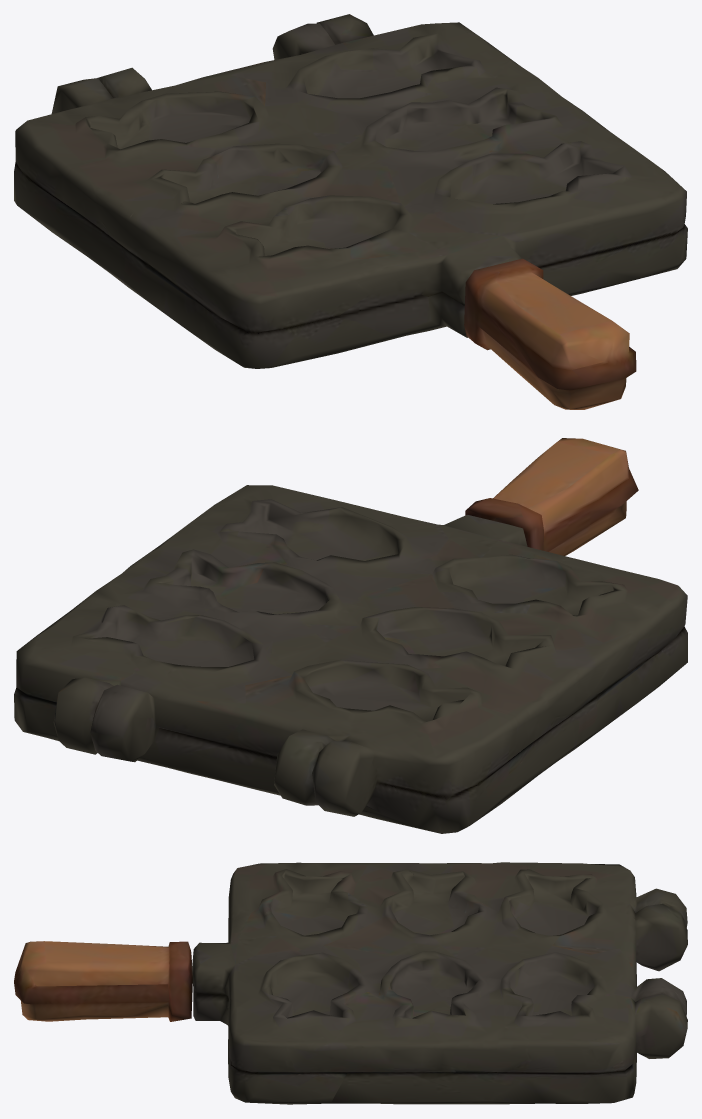
File: KR_사물_s1_dessert_part_lid_bungeoppang.glb
3 renders of one model, top to bottom at view 1: azimuth 30°, elevation 25°; view 2: azimuth 150°, elevation 25°; view 3: azimuth 270°, elevation 25°, orthographic. The views are drawn at different scales.
Parts seen in each view (by area): view 1: tripo_node_9e220503-cf19-4bf2-9944-c97b12d2f6db; view 2: tripo_node_9e220503-cf19-4bf2-9944-c97b12d2f6db; view 3: tripo_node_9e220503-cf19-4bf2-9944-c97b12d2f6db.
Part boxes in pixels (x1,y1,x2,y2): tripo_node_9e220503-cf19-4bf2-9944-c97b12d2f6db: (14,14,687,409); tripo_node_9e220503-cf19-4bf2-9944-c97b12d2f6db: (14,438,687,833); tripo_node_9e220503-cf19-4bf2-9944-c97b12d2f6db: (14,862,687,1104).
Size of the model in its own units: 0.7 by 0.1401 by 1.08.
Materials: 1 (1 with a texture image).
